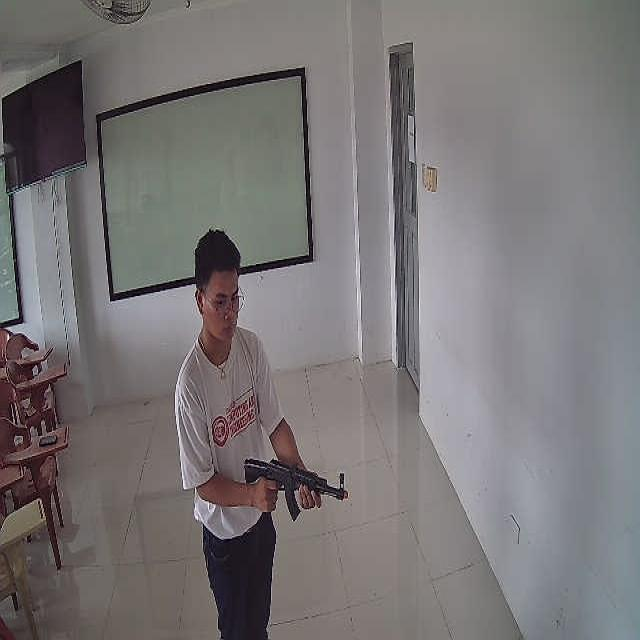rifle: (245, 458, 348, 522)
